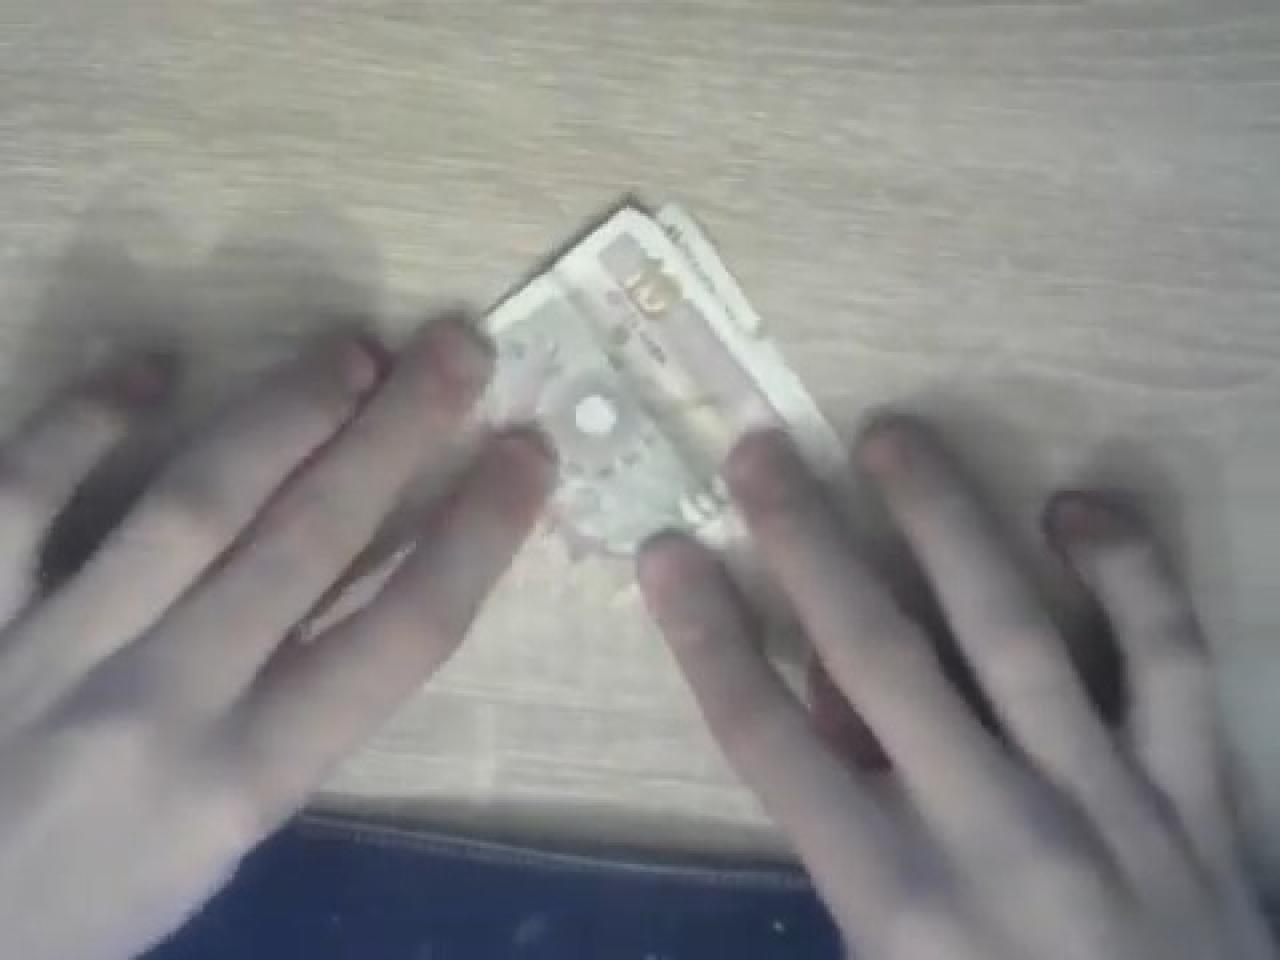10leva: (486, 195, 838, 555)
